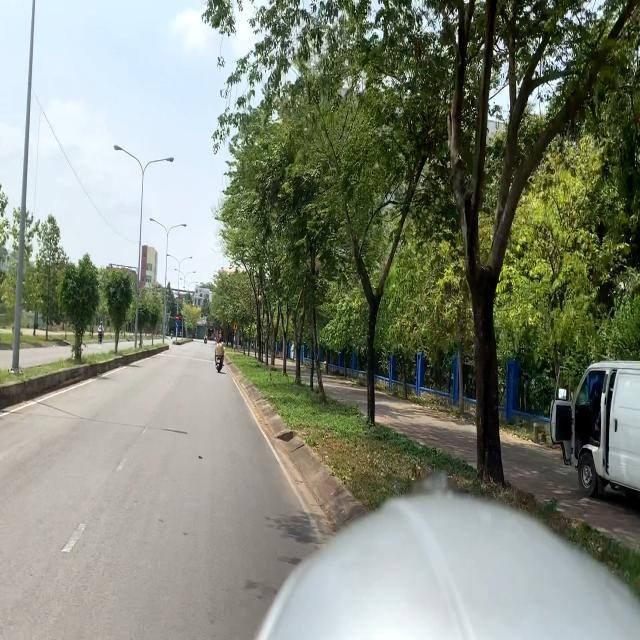bien_hieu_lenh: (233, 322, 238, 330), (175, 321, 179, 328), (175, 315, 179, 320)
